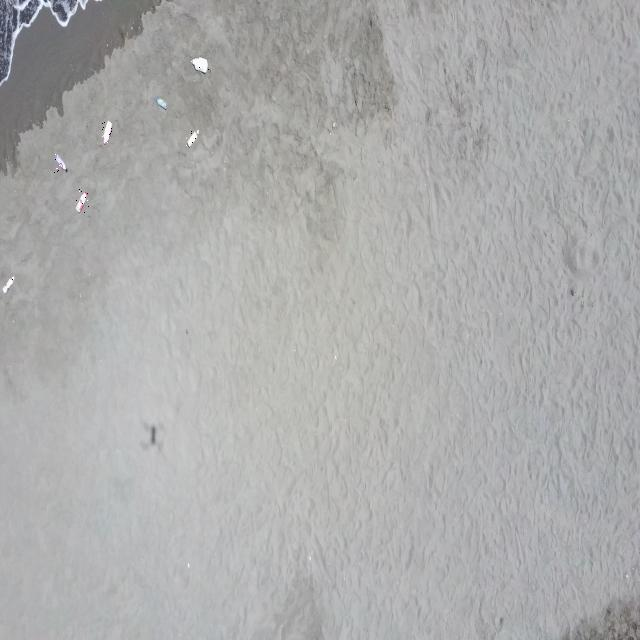Garbage: (55, 152, 67, 172), (75, 192, 87, 212), (101, 120, 111, 143), (191, 56, 207, 70), (186, 129, 198, 145), (3, 276, 13, 292), (156, 96, 166, 108)
